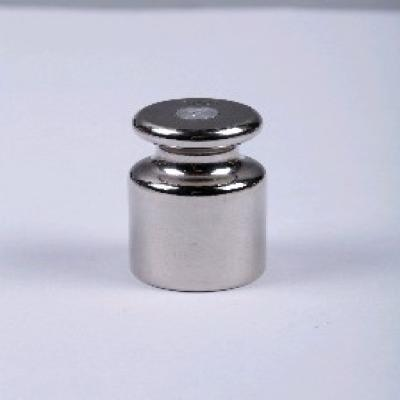technique: (127, 98, 268, 294)
